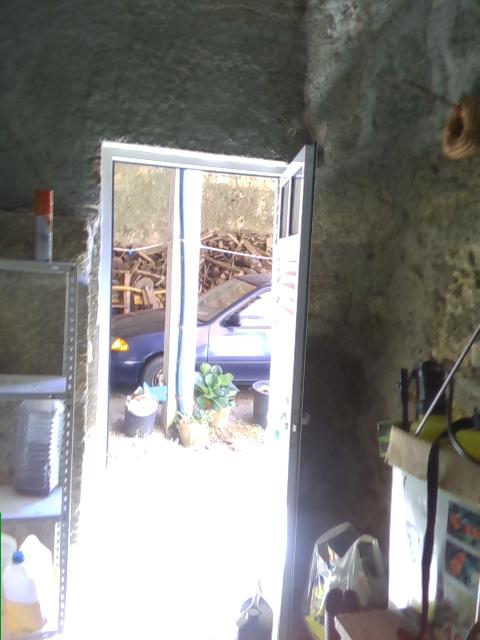open_door: (71, 136, 291, 638)
